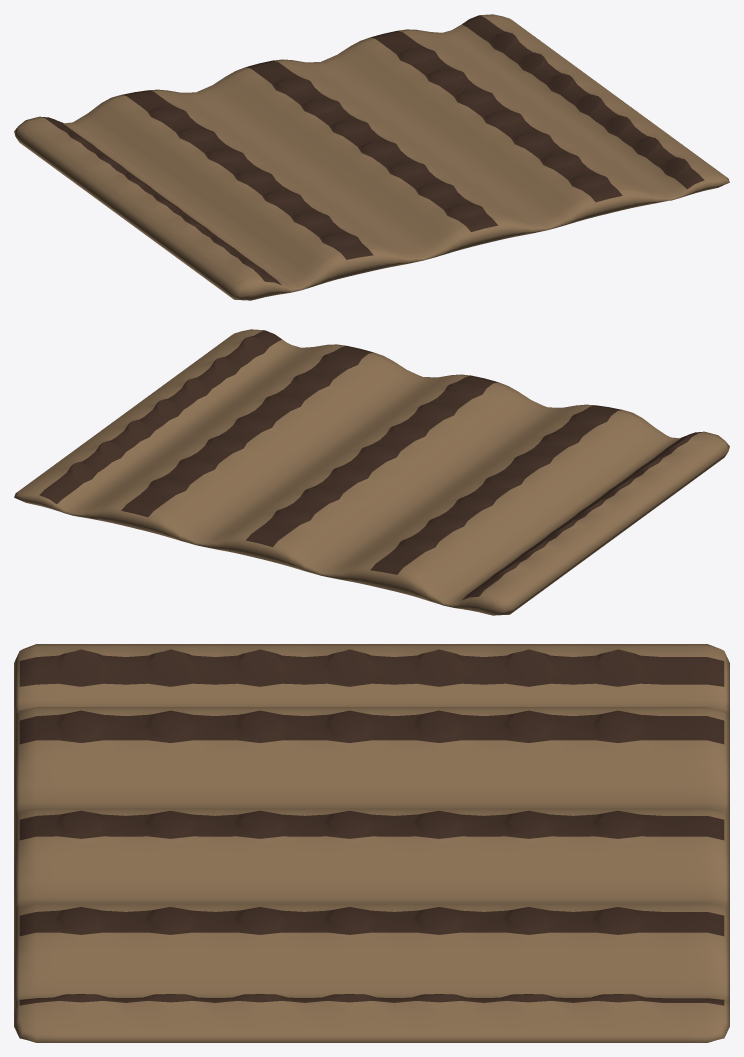
Rendered from Feeld_3.fbx.
3 renders of one model, top to bottom at view 1: azimuth 30°, elevation 25°; view 2: azimuth 150°, elevation 25°; view 3: azimuth 270°, elevation 25°, orthographic. The views are drawn at different scales.
Visible parts, largest first — view 1: three; view 2: three; view 3: three.
Boxes of the visible parts, x1,y1,x2,y2 form: three: (14,14,729,300); three: (14,329,729,615); three: (14,644,729,1042).
Bounding box in the file's own units: 4170 × 210 × 3321.
